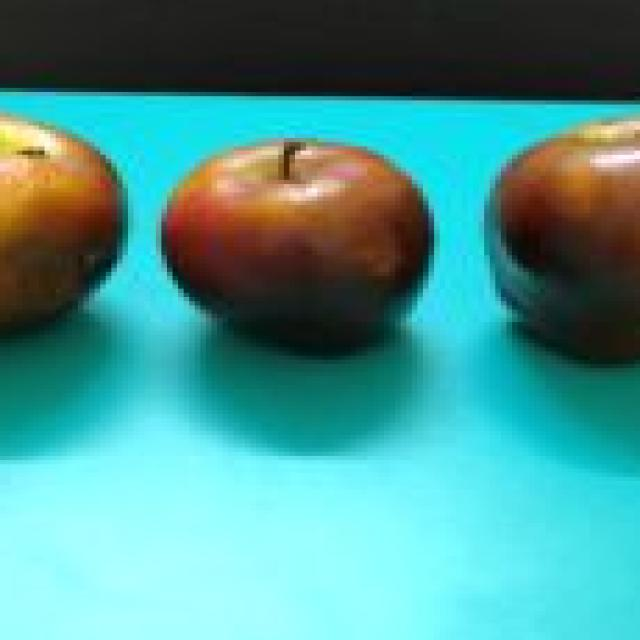Bad_Apple 0-1 day: (167, 146, 423, 352), (498, 121, 640, 361), (0, 116, 122, 328)
